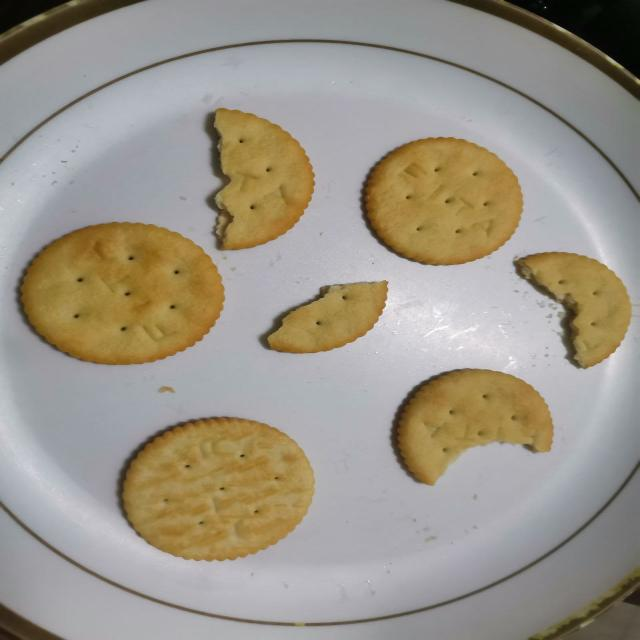broken biscuit: (391, 366, 555, 486), (202, 100, 321, 250), (510, 254, 640, 368), (274, 273, 397, 354)
intact biscuit: (18, 220, 226, 366), (119, 414, 316, 562), (360, 134, 524, 266)
